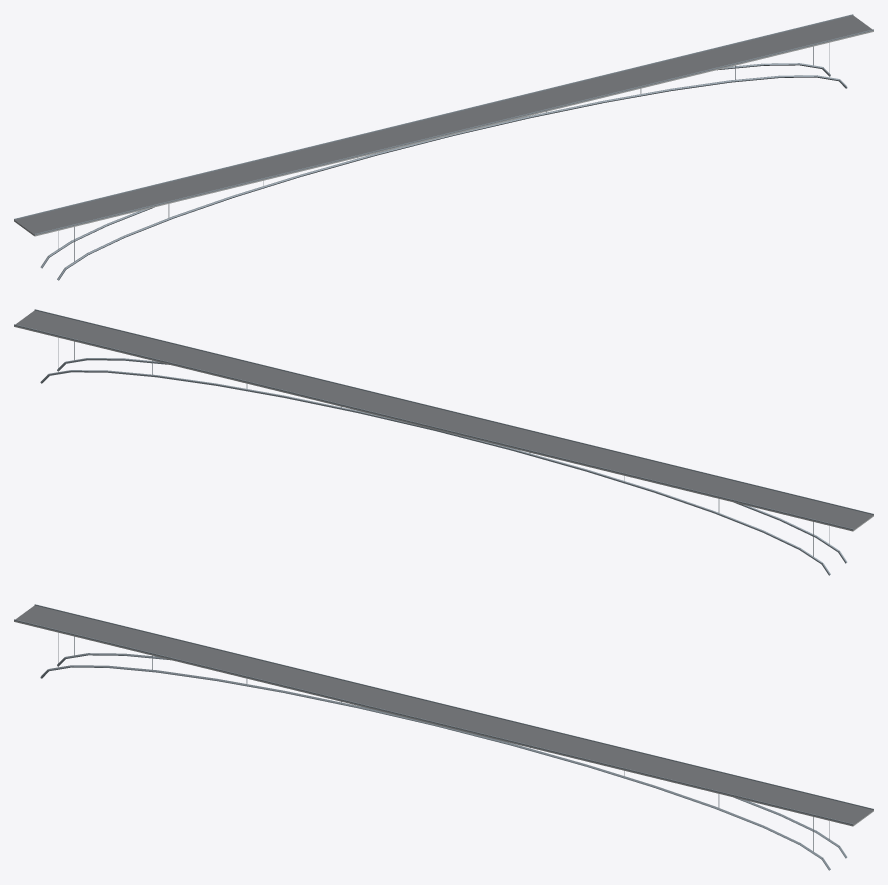
The picture shows the model from 3 angles, top to bottom: view 1: azimuth 30°, elevation 25°; view 2: azimuth 150°, elevation 25°; view 3: azimuth 330°, elevation 25°; orthographic projection.
Parts seen in each view (by area): view 1: worldgen; view 2: worldgen; view 3: worldgen.
Part boxes in pixels (box(x1,y1,x2,y2)): worldgen: box(14, 14, 873, 280); worldgen: box(14, 309, 873, 575); worldgen: box(14, 604, 873, 870).
Bounding box in the file's own units: 1150 × 71.18 × 49.7.
